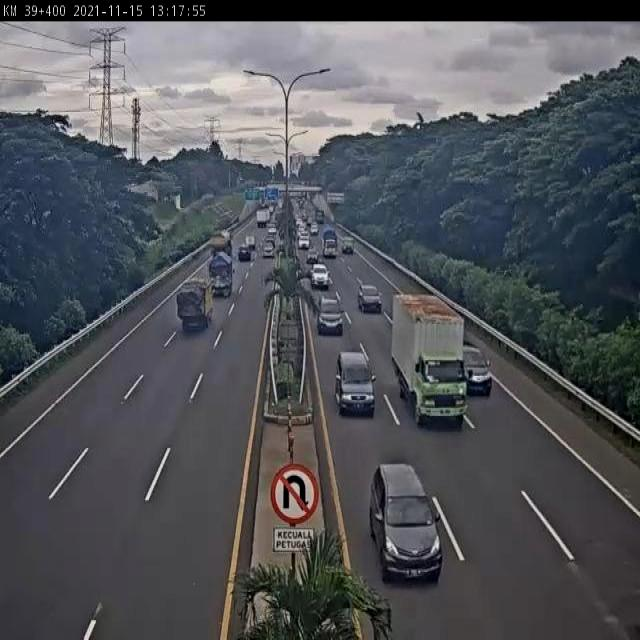Car: (370, 464, 442, 583), (334, 351, 376, 418), (462, 345, 492, 396), (316, 295, 344, 335), (357, 282, 382, 313), (310, 262, 330, 290), (238, 244, 251, 261), (263, 240, 275, 258), (298, 232, 310, 250), (307, 248, 319, 265), (342, 238, 354, 254), (245, 235, 256, 250), (314, 210, 324, 224), (310, 223, 318, 236)
Truck: (392, 292, 468, 429), (177, 278, 216, 333), (208, 251, 234, 298), (323, 228, 338, 258)
